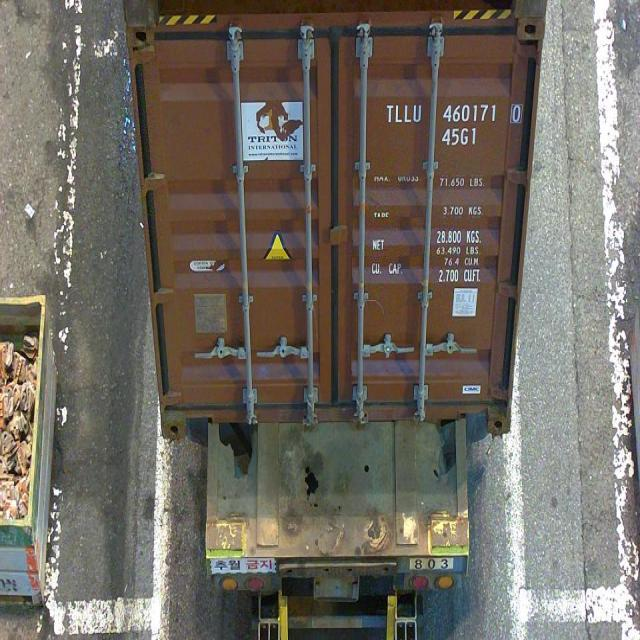ISO: (441, 126, 478, 146)
container_number: (385, 102, 518, 125)
